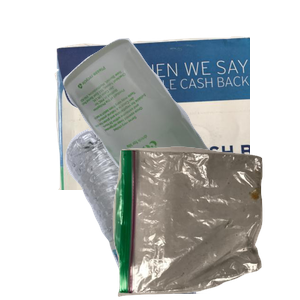glass: (60, 36, 300, 216)
paper: (52, 34, 292, 214)
plastic: (63, 120, 263, 300)
trash: (110, 144, 300, 300)
